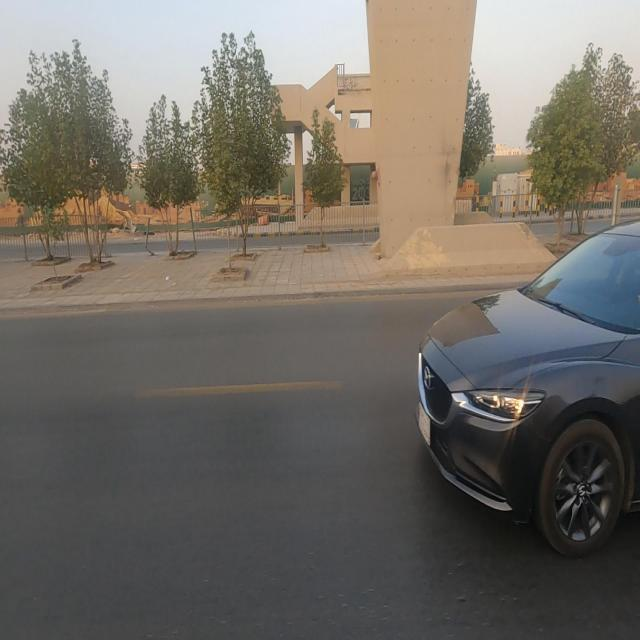debris: (150, 250, 190, 302)
